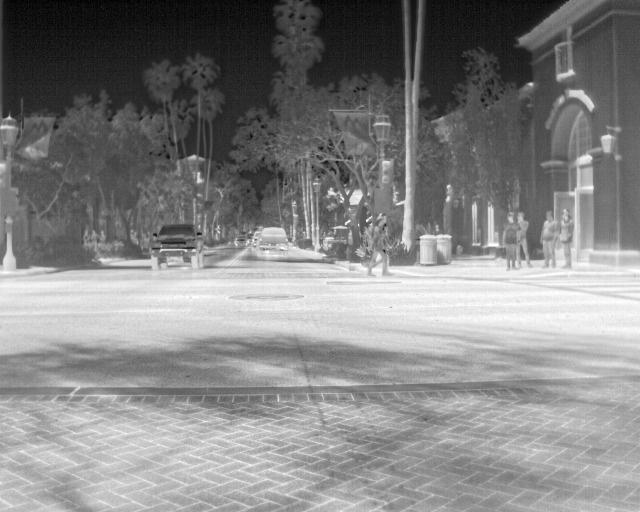bicycle: (148, 222, 203, 272), (258, 225, 291, 257), (251, 227, 264, 251), (234, 233, 251, 249)
empty: (558, 207, 578, 268), (362, 216, 381, 276), (540, 209, 559, 268), (515, 210, 534, 268), (500, 209, 516, 271), (377, 224, 396, 275), (89, 227, 100, 247), (96, 227, 108, 243), (81, 229, 91, 245)
